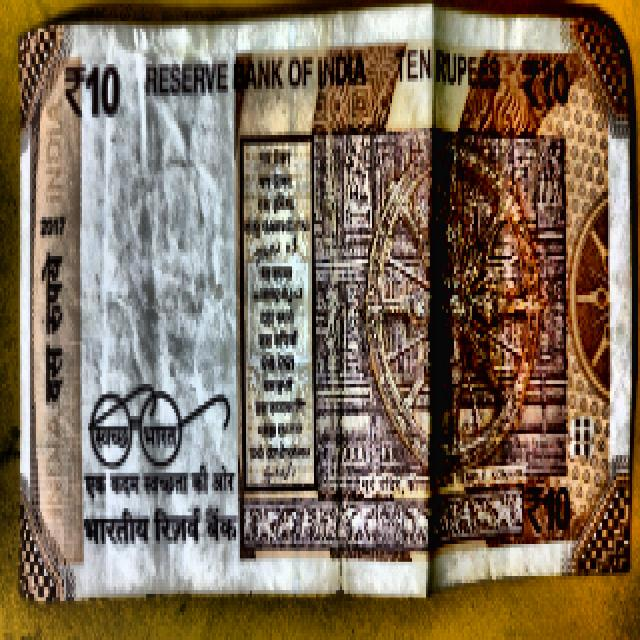-10-: (16, 16, 640, 579)
